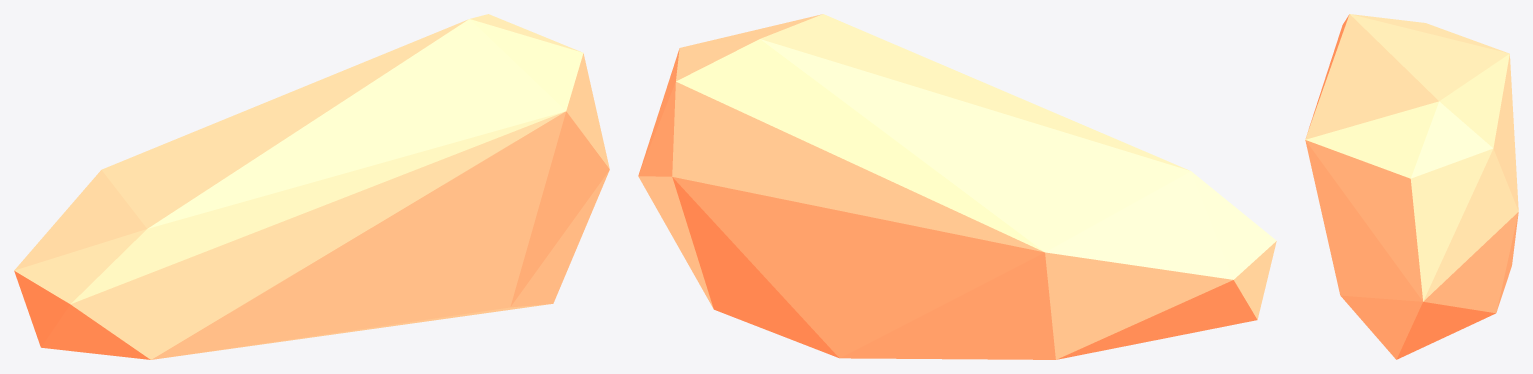
Rendered from Bullet.fbx.
3 views of the same model, side by side, from view 1: azimuth 30°, elevation 25°; view 2: azimuth 150°, elevation 25°; view 3: azimuth 270°, elevation 25° (orthographic). The views are drawn at different scales.
Parts seen in each view (by area): view 1: Cube.020; view 2: Cube.020; view 3: Cube.020.
Part boxes in pixels (box(x1,y1,x2,y2)): Cube.020: box(14, 14, 609, 359); Cube.020: box(638, 14, 1276, 359); Cube.020: box(1305, 14, 1518, 359).
Size of the model in its own units: 1.57 by 4.22 by 1.9.
